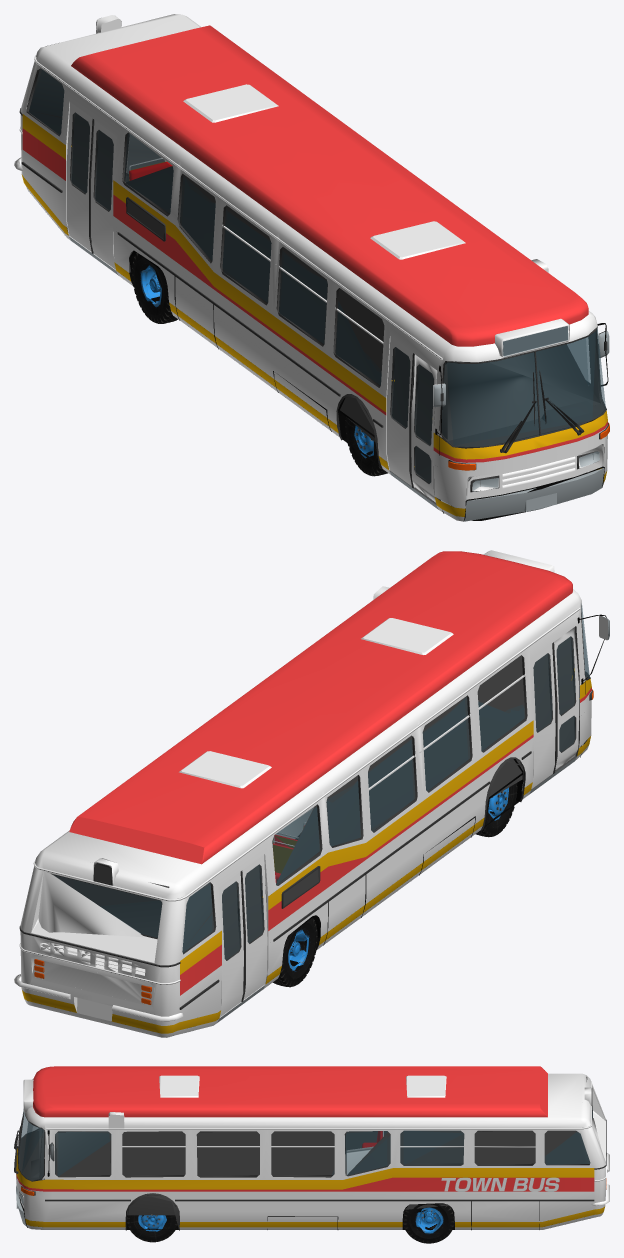
The model's file is traffic_bus.glb.
The picture shows the model from 3 angles, top to bottom: view 1: azimuth 30°, elevation 25°; view 2: azimuth 150°, elevation 25°; view 3: azimuth 270°, elevation 25°; orthographic projection. The views are drawn at different scales.
Parts seen in each view (by area): view 1: body_28, body_19, body_10, body_18, body_8, body_27, body_16 (×2), body_17, body_11, body_23, spin (×2), body_21 (+6 smaller); view 2: body_19, body_28, body_18, body_10, body_8, body_16 (×2), body_27, body_17, body_26, body_23, spin (×2), body_21 (+1 smaller); view 3: body_19, body_28, body_18, body_27, body_10, body_8, body_23, spin (×3), body_16 (×2), body_17, body_26, body_0 (+4 smaller).
Boxes of the visible parts, <box> form: body_28: <box>62,25,607,462</box>; body_19: <box>20,14,607,521</box>; body_10: <box>29,69,605,490</box>; body_18: <box>29,69,604,483</box>; body_8: <box>29,70,595,445</box>; body_27: <box>21,114,607,516</box>; body_16 (×2): <box>26,69,608,495</box>; body_17: <box>19,20,607,488</box>; body_11: <box>69,236,604,521</box>; body_23: <box>22,25,502,459</box>; spin (×2): <box>132,254,386,475</box>; body_21: <box>26,21,604,504</box>; body_19: <box>20,586,591,1037</box>; body_28: <box>69,551,591,967</box>; body_18: <box>52,630,574,959</box>; body_10: <box>101,603,589,959</box>; body_8: <box>54,631,588,951</box>; body_16 (×2): <box>31,634,608,1010</box>; body_27: <box>22,679,591,1033</box>; body_17: <box>19,605,590,1009</box>; body_26: <box>14,607,580,1021</box>; body_23: <box>76,743,524,995</box>; spin (×2): <box>276,783,516,985</box>; body_21: <box>94,626,587,981</box>; body_19: <box>16,1073,605,1229</box>; body_28: <box>16,1066,572,1191</box>; body_18: <box>39,1128,590,1215</box>; body_27: <box>16,1148,604,1227</box>; body_10: <box>18,1109,592,1204</box>; body_8: <box>22,1112,592,1175</box>; body_23: <box>343,1066,594,1191</box>; spin (×3): <box>127,1204,454,1243</box>; body_16 (×2): <box>14,1117,603,1208</box>; body_17: <box>14,1088,606,1230</box>; body_26: <box>46,1081,608,1206</box>; body_0: <box>441,1177,559,1191</box>.
Size of the model in its own units: 2.8 by 2.85 by 11.5.
20 materials, 3 textured.
